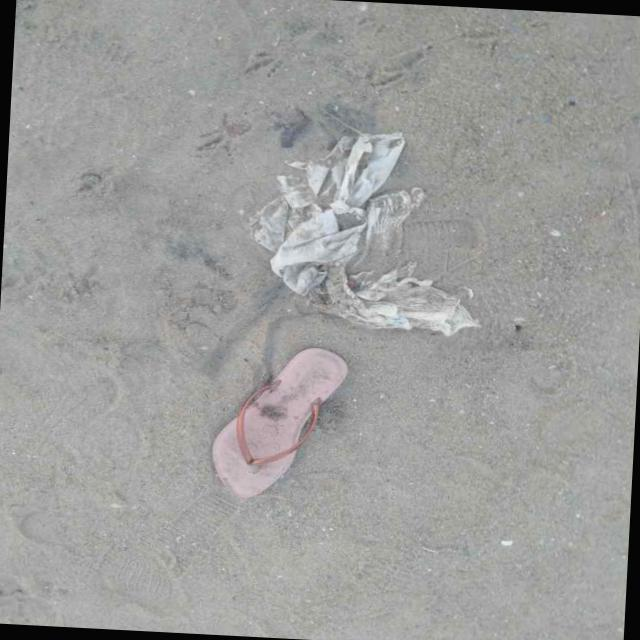dep: (212, 348, 347, 500)
vai_vun: (252, 133, 479, 335)
